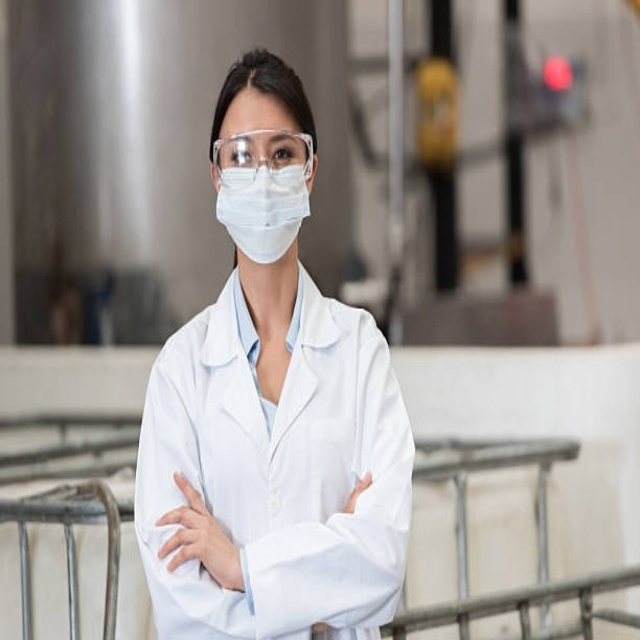Gafas: (212, 129, 314, 183)
Mascara: (214, 141, 312, 263)
Sin_guantes: (154, 468, 249, 604)
